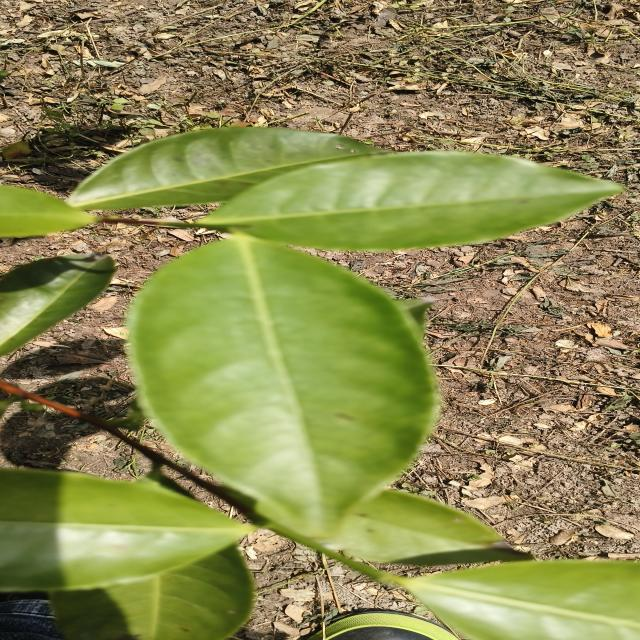Leaf: (128, 236, 435, 541), (206, 151, 620, 251), (0, 469, 249, 591), (69, 127, 387, 210), (50, 546, 253, 640), (404, 560, 640, 640), (325, 490, 529, 566), (0, 253, 115, 356), (0, 186, 93, 237)
